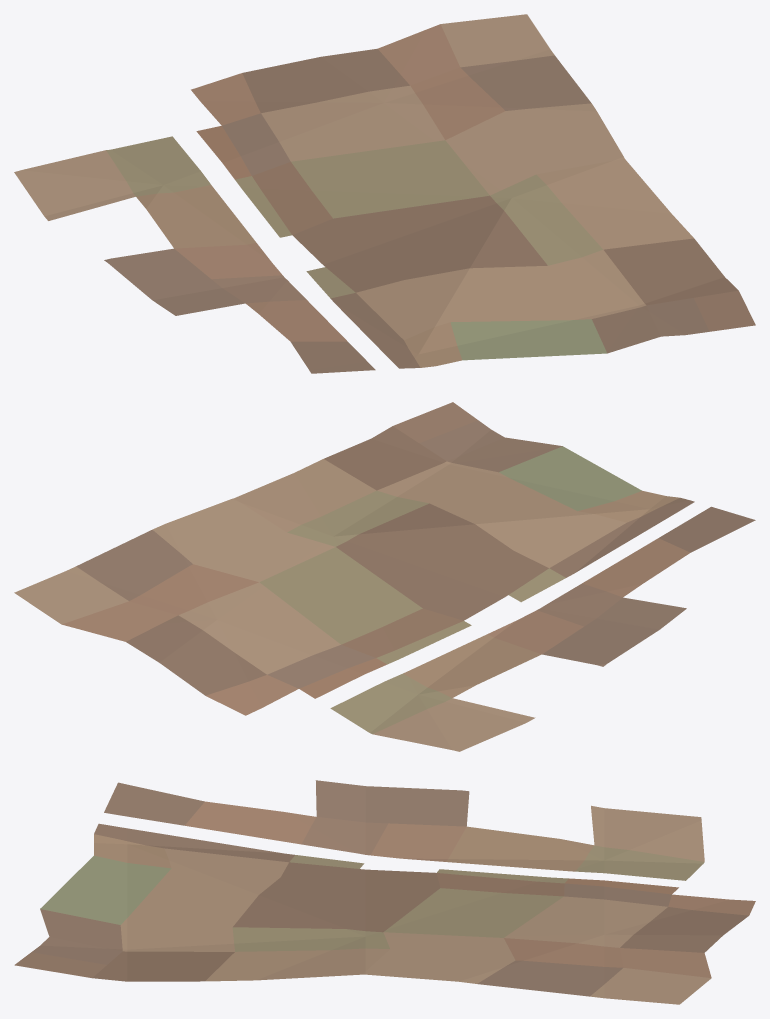
File: farm_-58_-50_soil.glb
3 renders of one model, top to bottom at view 1: azimuth 30°, elevation 25°; view 2: azimuth 150°, elevation 25°; view 3: azimuth 270°, elevation 25°, orthographic. The views are drawn at different scales.
Visible parts, largest first — view 1: geometry_0; view 2: geometry_0; view 3: geometry_0.
Part boxes in pixels (<box>): geometry_0: <box>14,14,755,373</box>; geometry_0: <box>14,402,755,751</box>; geometry_0: <box>14,780,755,1004</box>.
Bounding box in the file's own units: 198 × 16.42 × 249.
